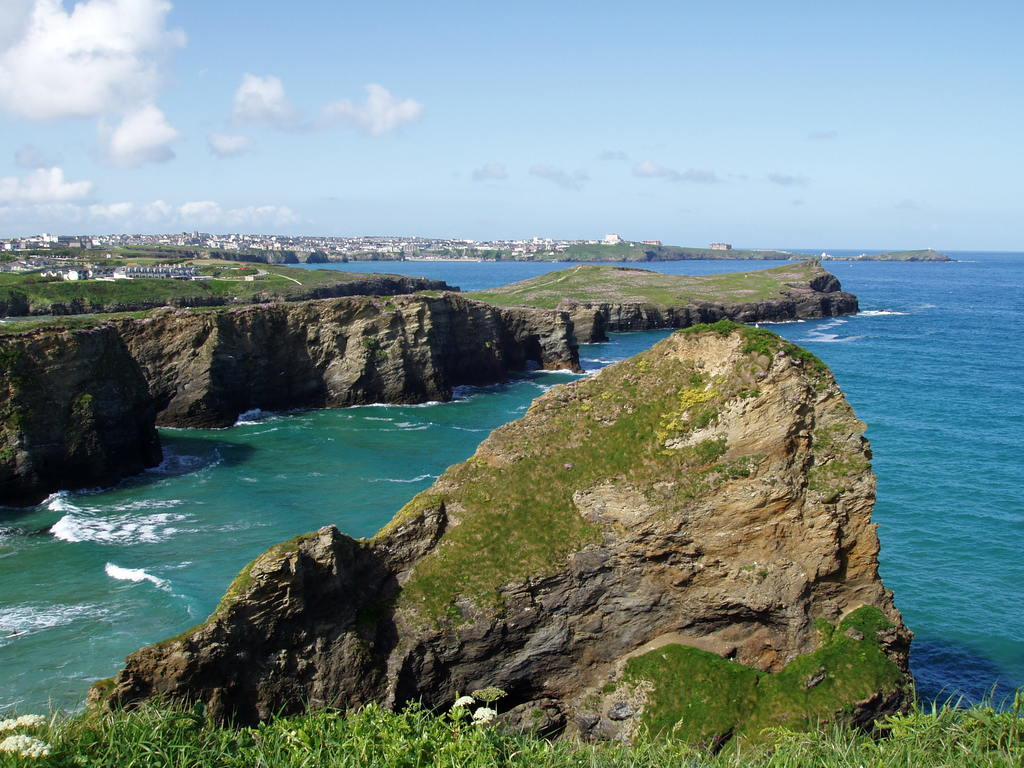Tree: (0, 263, 213, 311)
